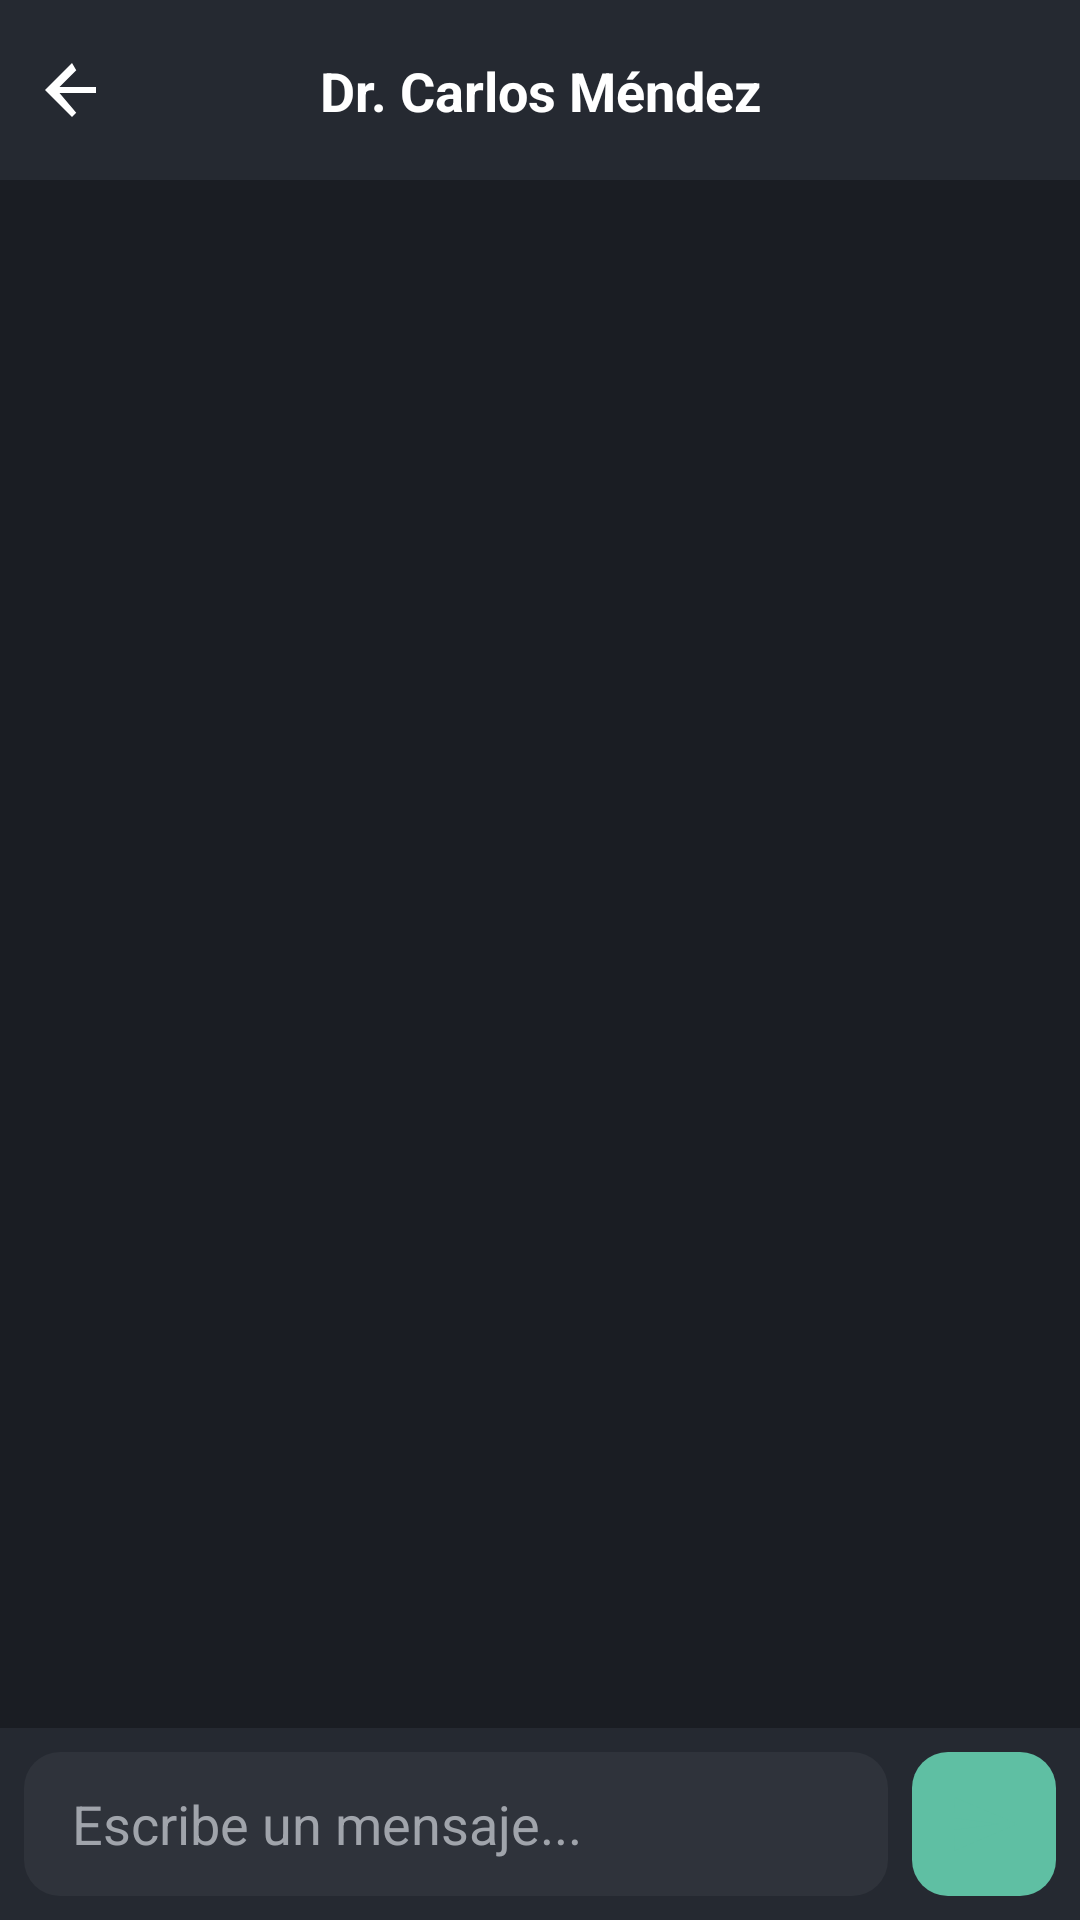

Icon bounding boxes for this 1080px x 1920px phone screenshot, format (x1,y1,x2,y2):
Atrás: (45,63,96,117)
